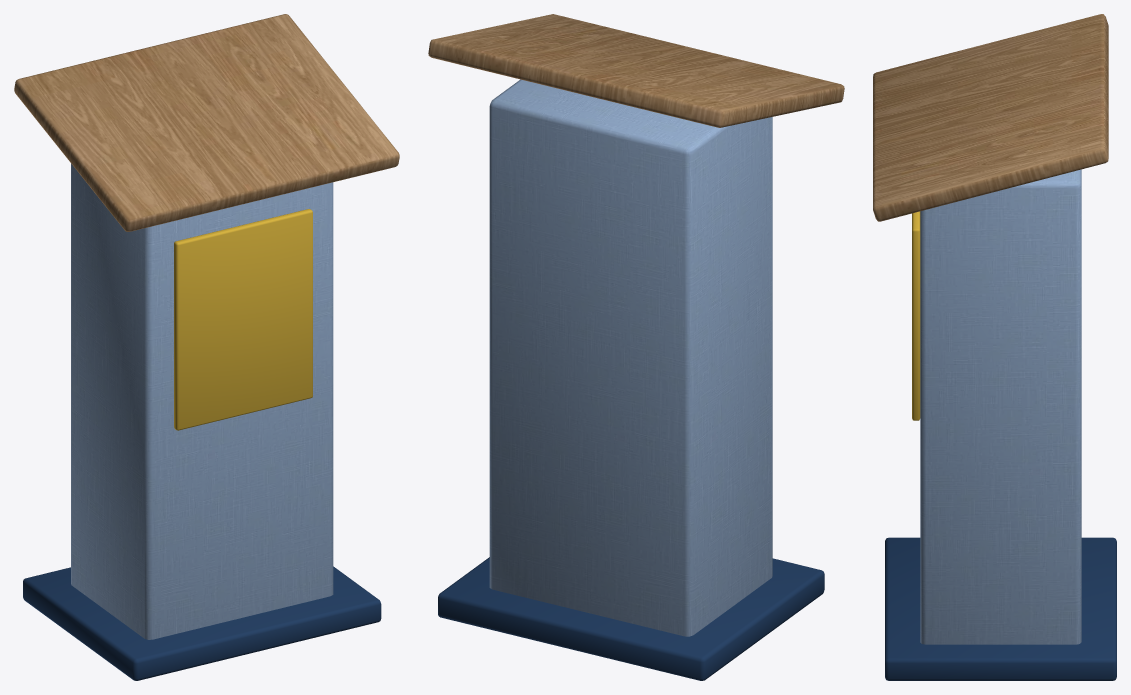
File: festival-lectern-2c304f60c9c2.glb
The picture shows the model from 3 angles, left to right: view 1: azimuth 30°, elevation 25°; view 2: azimuth 150°, elevation 25°; view 3: azimuth 270°, elevation 25°; orthographic projection. The views are drawn at different scales.
Visible parts, largest first — view 1: Pillar, Reading_Top, Festival_Crest, Base; view 2: Pillar, Reading_Top, Base; view 3: Pillar, Reading_Top, Base, Festival_Crest.
Boxes of the visible parts, bbox=[...] form: Pillar: bbox=[71, 163, 333, 639]; Reading_Top: bbox=[14, 14, 399, 231]; Festival_Crest: bbox=[174, 209, 312, 430]; Base: bbox=[23, 566, 381, 680]; Pillar: bbox=[489, 79, 772, 636]; Reading_Top: bbox=[428, 14, 844, 127]; Base: bbox=[438, 557, 824, 680]; Pillar: bbox=[920, 169, 1081, 644]; Reading_Top: bbox=[873, 14, 1108, 221]; Base: bbox=[885, 537, 1116, 680]; Festival_Crest: bbox=[912, 211, 920, 420].
Size of the model in its own units: 0.64 by 1.18 by 0.4835.
Materials: 4 (2 with a texture image).
